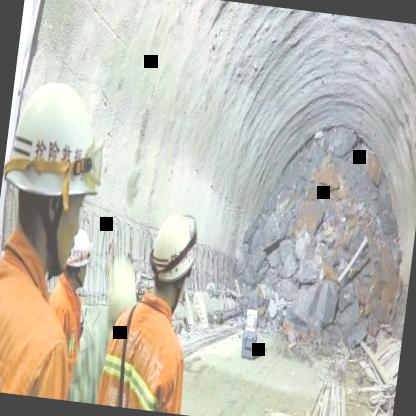helmet: (6, 64, 112, 246), (147, 207, 204, 288), (64, 226, 93, 289)
